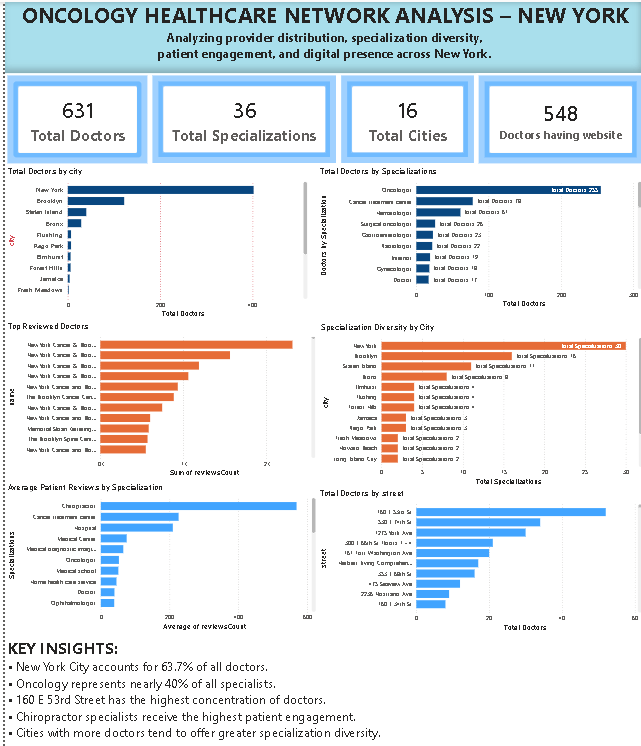

This screenshot's page, from the dashboard's own definition file:
{"tool":"powerbi","page":{"name":"Page 1","canvas":[1280,1500],"ordinal":0},"visuals":[{"type":"cardVisual","fields":{"Data":["oncologists_nyc.Total doctors"]},"box":[0,150,290,186],"z":0},{"type":"cardVisual","fields":{"Data":["oncologists_nyc.Total categories"]},"box":[290,150,377.5,185],"z":1000},{"type":"cardVisual","fields":{"Data":["oncologists_nyc.Total Cities"]},"box":[667.5,150,275,185],"z":2000},{"type":"clusteredBarChart","fields":{"Category":["oncologists_nyc.city"],"Y":["oncologists_nyc.Total doctors"]},"box":[0,336,610,310],"z":3000},{"type":"clusteredBarChart","fields":{"Y":["oncologists_nyc.Total doctors"],"Category":["oncologists_nyc.categoryName"]},"box":[626,336,654,290],"z":4000},{"type":"clusteredBarChart","title":"Top Reviewed Doctors","fields":{"Category":["oncologists_nyc.name"],"Y":["Sum(oncologists_nyc.reviewsCount)"]},"box":[0,646,626,318],"z":5000},{"type":"clusteredBarChart","title":"Average Patient Reviews by Specialization","fields":{"Category":["oncologists_nyc.categoryName"],"Y":["Avg(oncologists_nyc.reviewsCount)"]},"box":[0,968.3,626.7,303.3],"z":6000},{"type":"clusteredBarChart","fields":{"Category":["oncologists_nyc.street"],"Y":["oncologists_nyc.Total doctors"]},"box":[626,980,654,292],"z":7000},{"type":"clusteredBarChart","title":"Specialization Diversity by City","fields":{"Category":["oncologists_nyc.city"],"Y":["oncologists_nyc.Total categories"]},"box":[626.7,646.7,653.3,333.3],"z":8000},{"type":"textbox","box":[0,0,1280,150],"z":9000},{"type":"cardVisual","fields":{"Data":["oncologists_nyc.Doctors having website"]},"box":[942,150,338,186],"z":10000},{"type":"textbox","box":[0,1272,1280,228],"z":11000}]}

Visuals, with their boxes in screenshot pixels (x1, y1, x2, y2), scaled from the page's 1280x1500 canvas onto the 641x746 screenshot:
cardVisual - oncologists_nyc.Total doctors: box=[0, 75, 145, 167]
cardVisual - oncologists_nyc.Total categories: box=[145, 75, 334, 167]
cardVisual - oncologists_nyc.Total Cities: box=[334, 75, 472, 167]
clusteredBarChart - oncologists_nyc.city x oncologists_nyc.Total doctors: box=[0, 167, 305, 321]
clusteredBarChart - oncologists_nyc.Total doctors x oncologists_nyc.categoryName: box=[313, 167, 640, 311]
"Top Reviewed Doctors" clusteredBarChart: box=[0, 321, 313, 479]
"Average Patient Reviews by Specialization" clusteredBarChart: box=[0, 482, 314, 632]
clusteredBarChart - oncologists_nyc.street x oncologists_nyc.Total doctors: box=[313, 487, 640, 633]
"Specialization Diversity by City" clusteredBarChart: box=[314, 322, 640, 487]
textbox: box=[0, 0, 640, 75]
cardVisual - oncologists_nyc.Doctors having website: box=[472, 75, 640, 167]
textbox: box=[0, 633, 640, 745]
